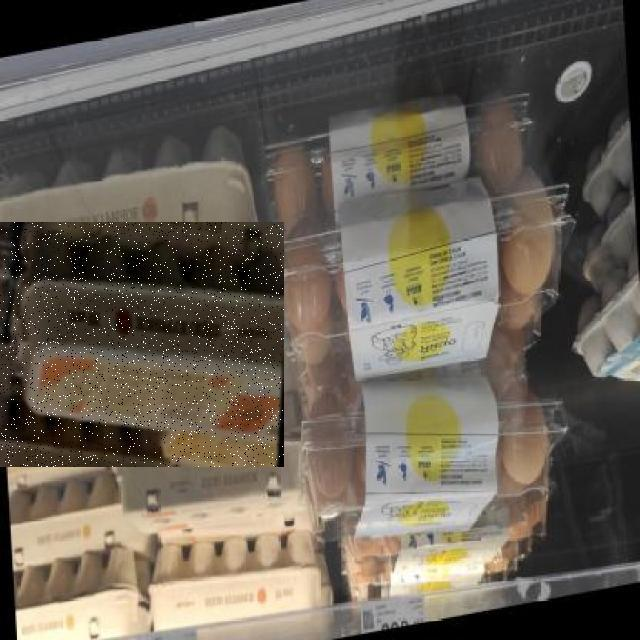egg: (0, 234, 144, 640)
